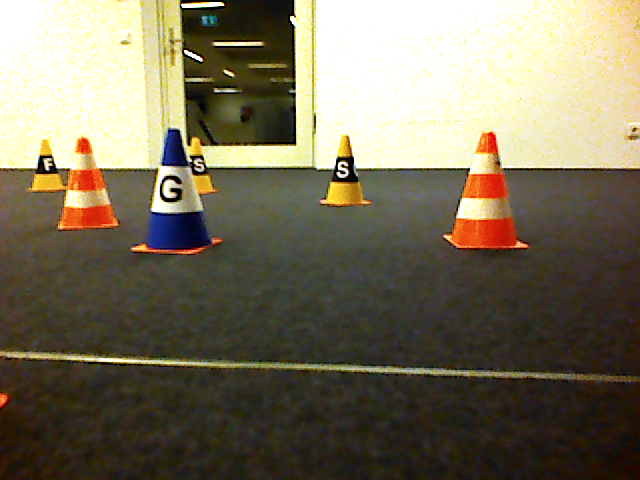bluecone: (128, 128, 226, 256)
orangeconesmall: (440, 130, 532, 251), (55, 136, 123, 232)
yellowcone: (320, 135, 375, 207), (28, 139, 67, 193), (194, 137, 221, 194)
